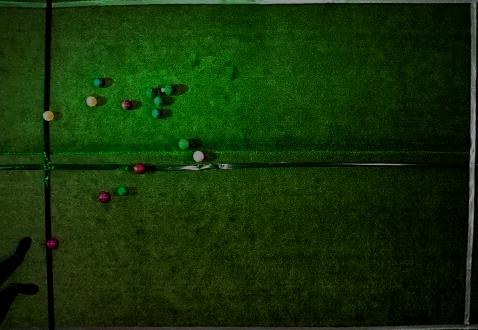blue: (93, 77, 105, 88), (152, 109, 162, 119)
green: (165, 84, 176, 96), (153, 96, 165, 107), (146, 88, 157, 99), (178, 139, 189, 150), (118, 186, 129, 196)
red: (98, 191, 111, 203), (46, 238, 58, 250), (134, 163, 146, 174), (193, 151, 205, 162), (121, 100, 133, 110)
vline: (1, 118, 51, 238), (1, 1, 52, 110), (461, 1, 477, 329), (1, 247, 56, 329)
white: (161, 88, 165, 93)
yellow: (86, 96, 97, 107), (42, 111, 54, 121)
